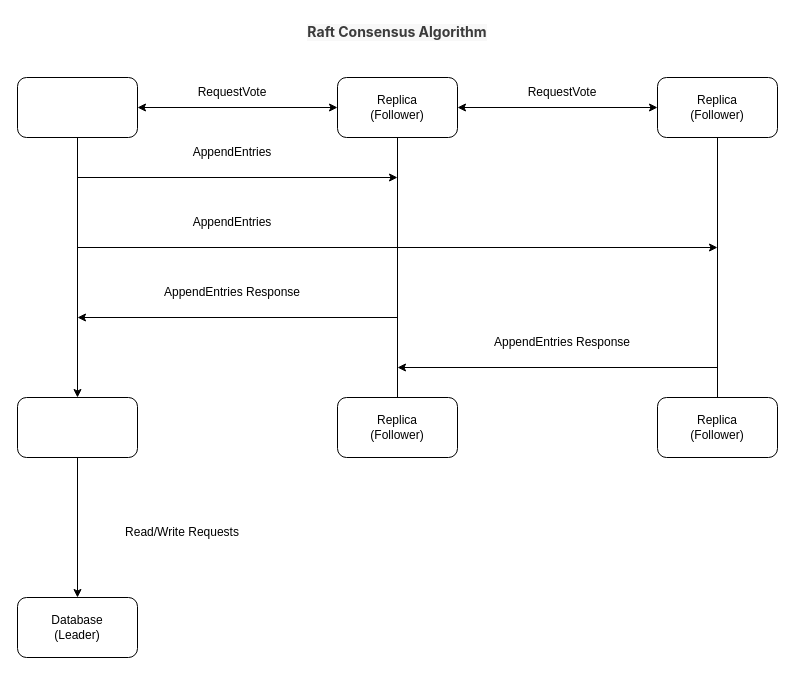
Some shapes in this 795 by 675 pixel diagram are drawn without their labels. Each missing label, with the centre of its shape:
Executor (Client): (77,427)
Replica (Leader): (77,107)
